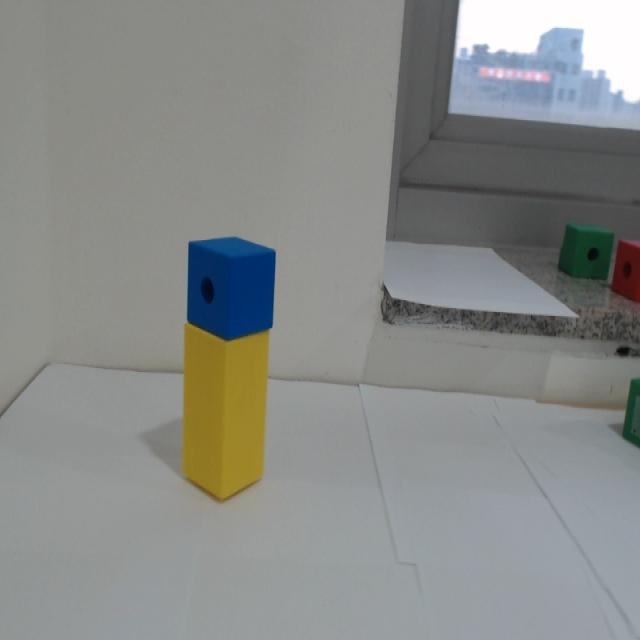cube: (184, 231, 279, 345)
